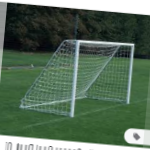goals: (21, 38, 135, 119)
